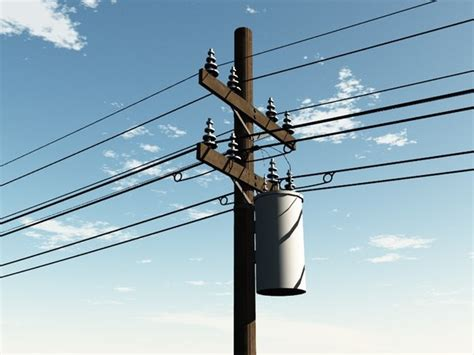pole: (176, 18, 366, 352)
